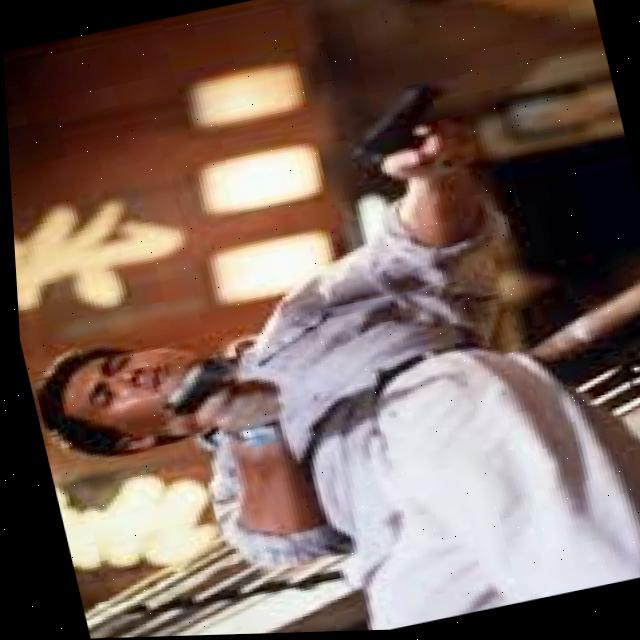pistol: (326, 78, 455, 176), (142, 352, 237, 425)
